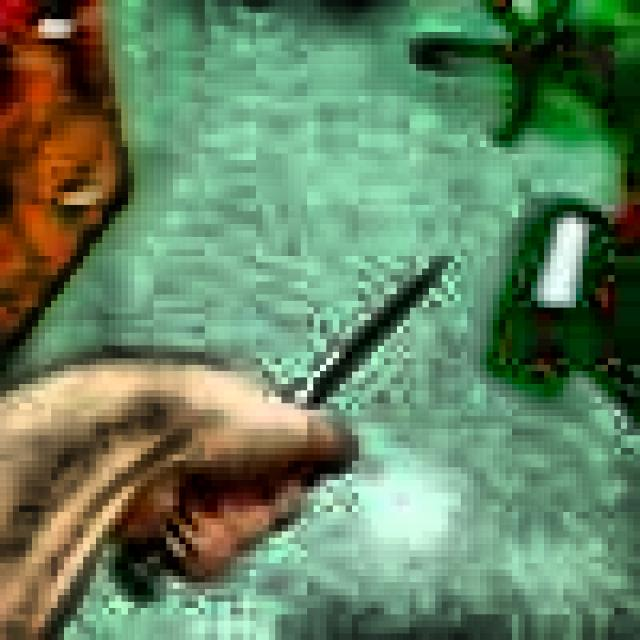knife: (118, 264, 448, 602)
